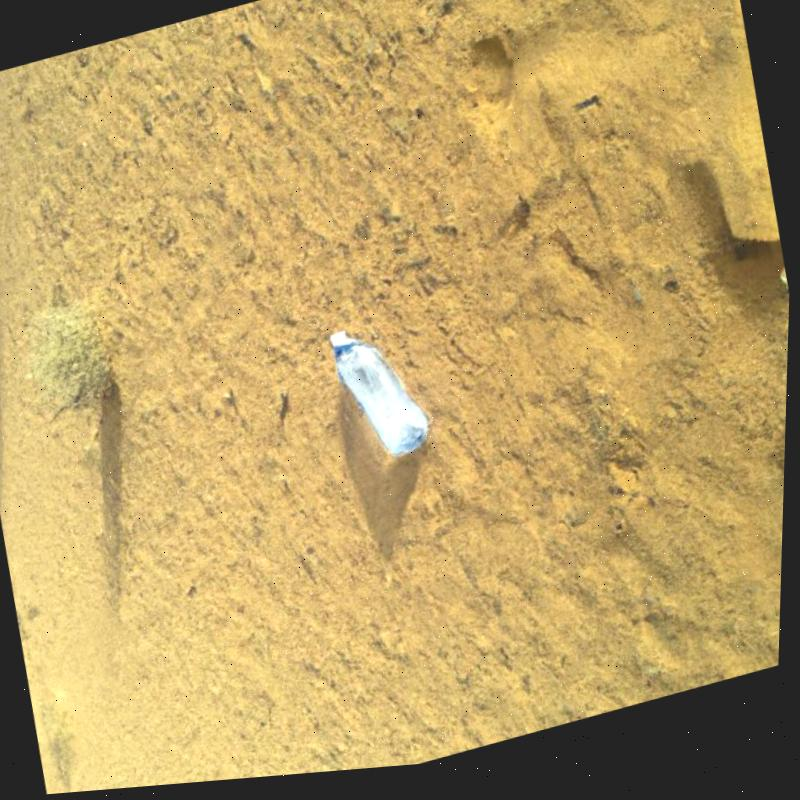botella: (328, 316, 438, 475)
